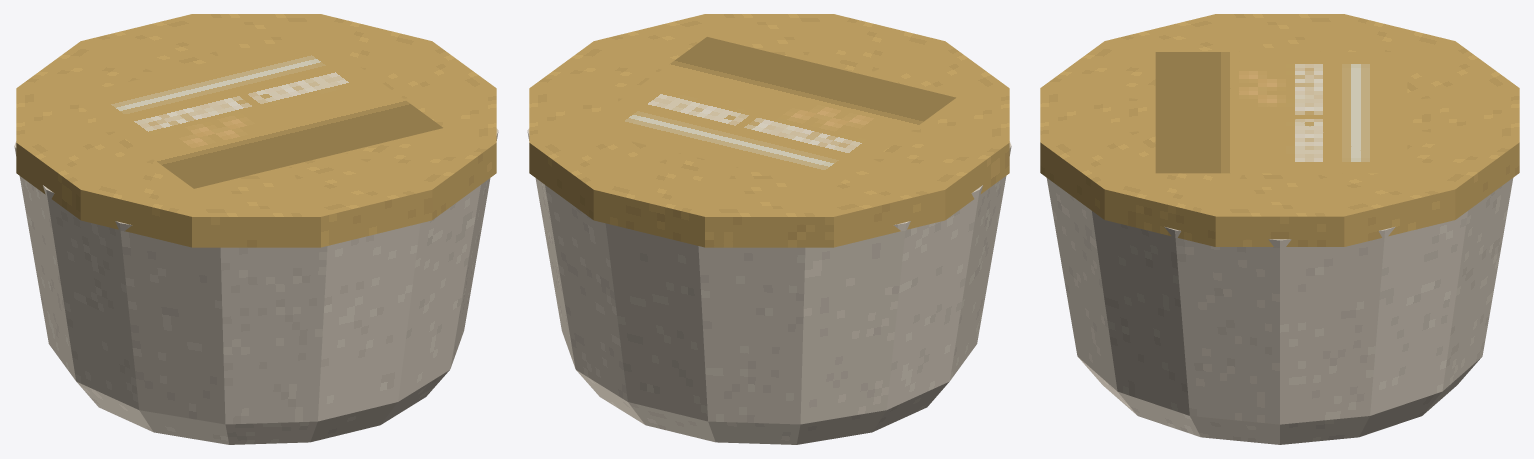
The model's file is cottage_cheese.glb.
3 renders of one model, left to right at view 1: azimuth 30°, elevation 25°; view 2: azimuth 150°, elevation 25°; view 3: azimuth 270°, elevation 25°, orthographic.
Parts seen in each view (by area): view 1: block_dairy tub, block_foil and plastic lid, block_pot lid print; view 2: block_dairy tub, block_foil and plastic lid, block_pot lid print; view 3: block_dairy tub, block_foil and plastic lid, block_pot lid print.
Part boxes in pixels (box(x1,y1,x2,y2)): block_dairy tub: box(14, 128, 498, 444); block_foil and plastic lid: box(16, 14, 496, 247); block_pot lid print: box(68, 35, 442, 188); block_dairy tub: box(527, 128, 1011, 444); block_foil and plastic lid: box(529, 14, 1009, 247); block_pot lid print: box(581, 37, 955, 189); block_dairy tub: box(1046, 178, 1513, 444); block_foil and plastic lid: box(1040, 14, 1519, 246); block_pot lid print: box(1155, 52, 1407, 173).
Bounding box in the file's own units: 0.1203 × 0.07 × 0.119.
1 material, 1 textured.
